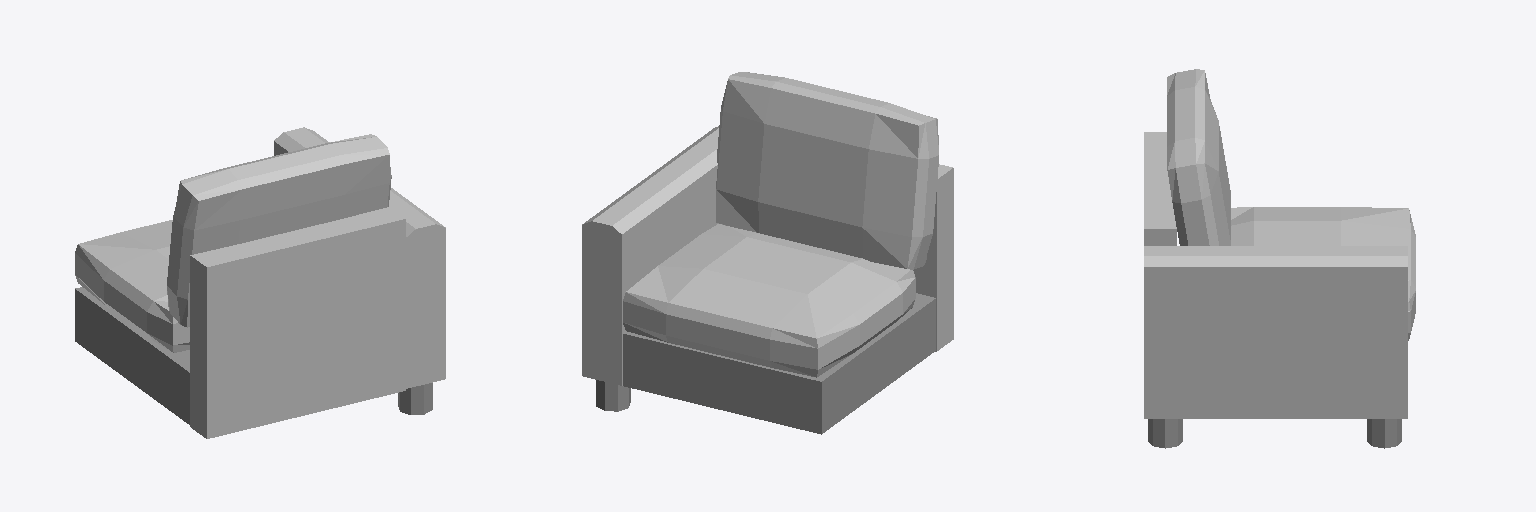
File: simple_sofa_left.obj
The picture shows the model from 3 angles: view 1: azimuth 30°, elevation 25°; view 2: azimuth 150°, elevation 25°; view 3: azimuth 270°, elevation 25°; orthographic projection.
Visible parts, largest first — view 1: Cube.004; view 2: Cube.004; view 3: Cube.004.
Part boxes in pixels (x1,y1,x2,y2): Cube.004: (75,127,445,438); Cube.004: (582,72,953,434); Cube.004: (1144,69,1415,448).
Size of the model in its own units: 2.11 by 2.23 by 2.04.